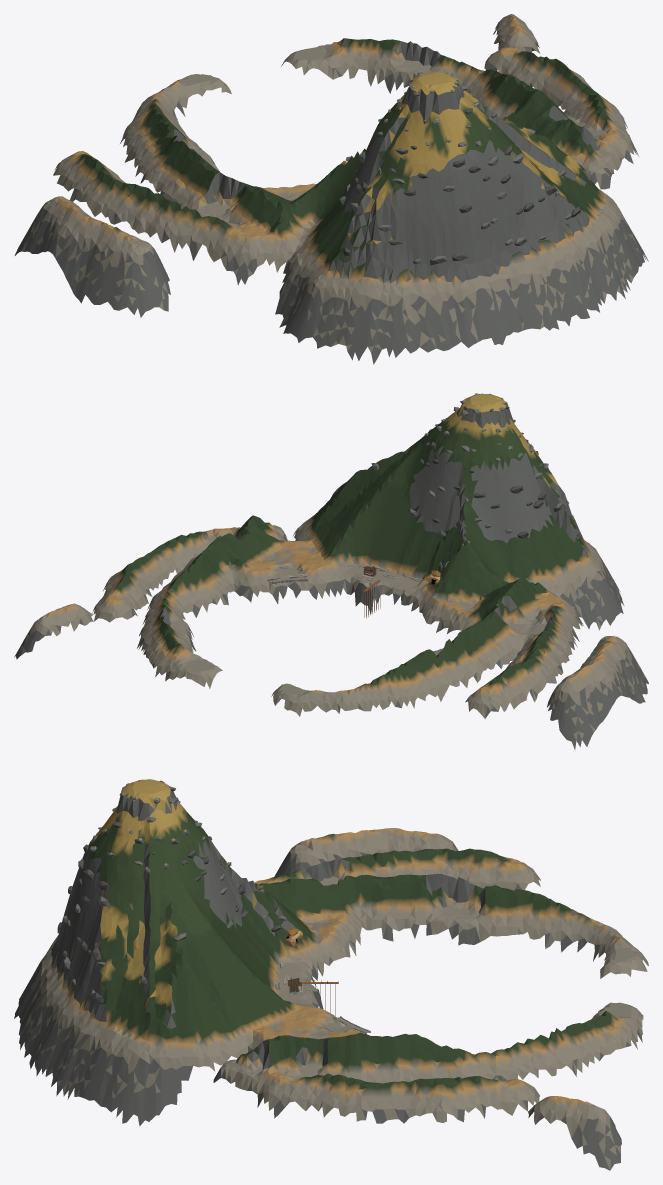
Rendered from chunk_0_5.glb.
3 renders of one model, top to bottom at view 1: azimuth 30°, elevation 25°; view 2: azimuth 150°, elevation 25°; view 3: azimuth 270°, elevation 25°, orthographic. The views are drawn at different scales.
Visible parts, largest first — view 1: chunk_0_5; view 2: chunk_0_5; view 3: chunk_0_5.
Part boxes in pixels (x1,y1,x2,y2): chunk_0_5: [14, 14, 648, 364]; chunk_0_5: [14, 393, 648, 749]; chunk_0_5: [14, 779, 648, 1170].
Bounding box in the file's own units: 328 × 121 × 293.
